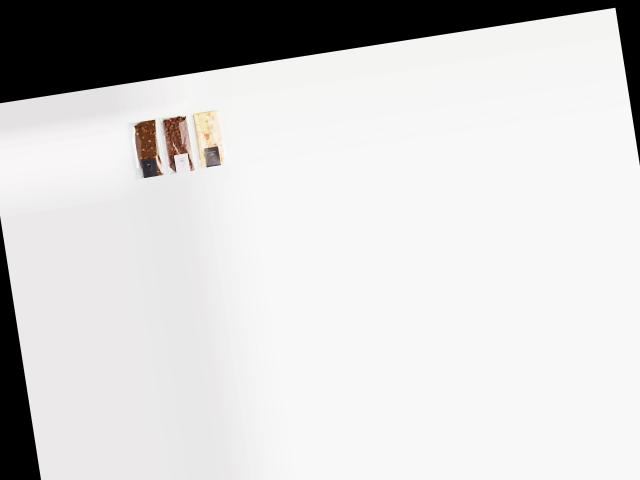chocolate: (127, 117, 162, 179)
